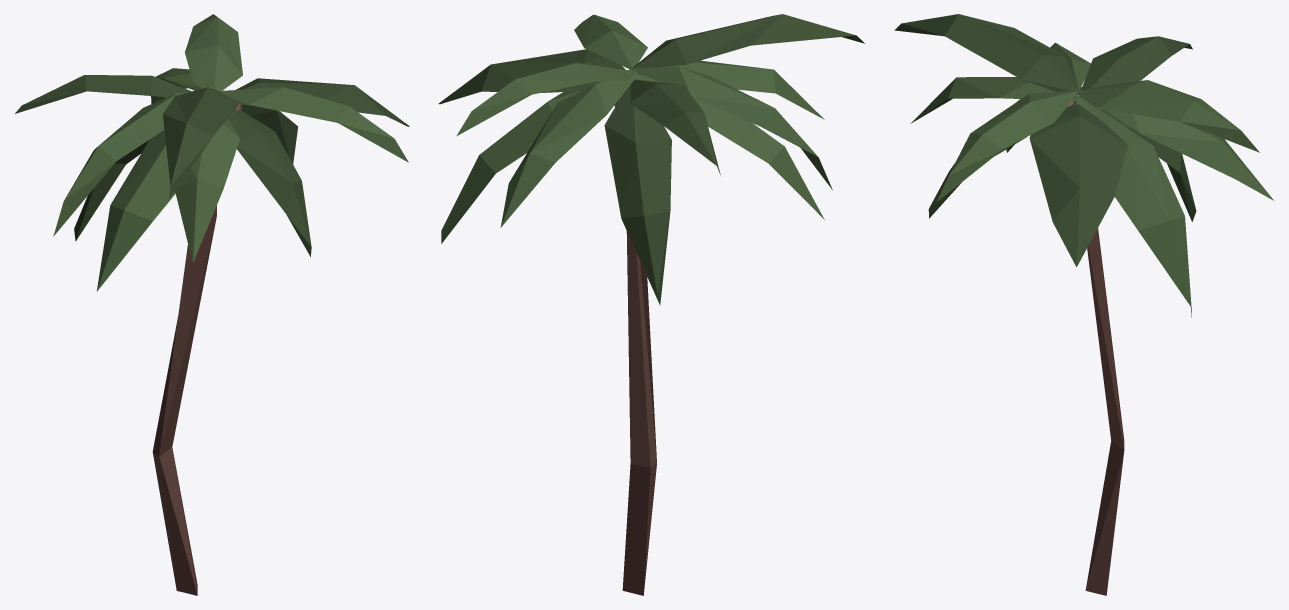
File: qn_palm_c.glb
3 renders of one model, left to right at view 1: azimuth 30°, elevation 25°; view 2: azimuth 150°, elevation 25°; view 3: azimuth 270°, elevation 25°, orthographic.
Visible parts, largest first — view 1: qn_palm_c; view 2: qn_palm_c; view 3: qn_palm_c.
Part boxes in pixels (x1,y1,x2,y2): qn_palm_c: (15, 14, 409, 595); qn_palm_c: (438, 14, 865, 595); qn_palm_c: (894, 14, 1273, 595).
Size of the model in its own units: 2.85 by 3.92 by 2.5.
